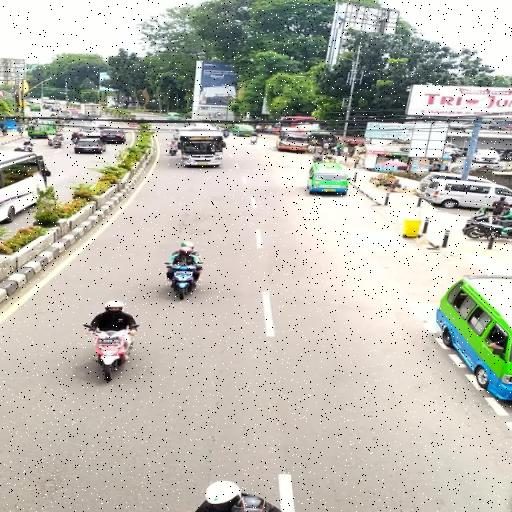Helmet: (100, 298, 126, 318), (178, 240, 196, 260)
Motor: (84, 329, 134, 384), (170, 262, 200, 298)
